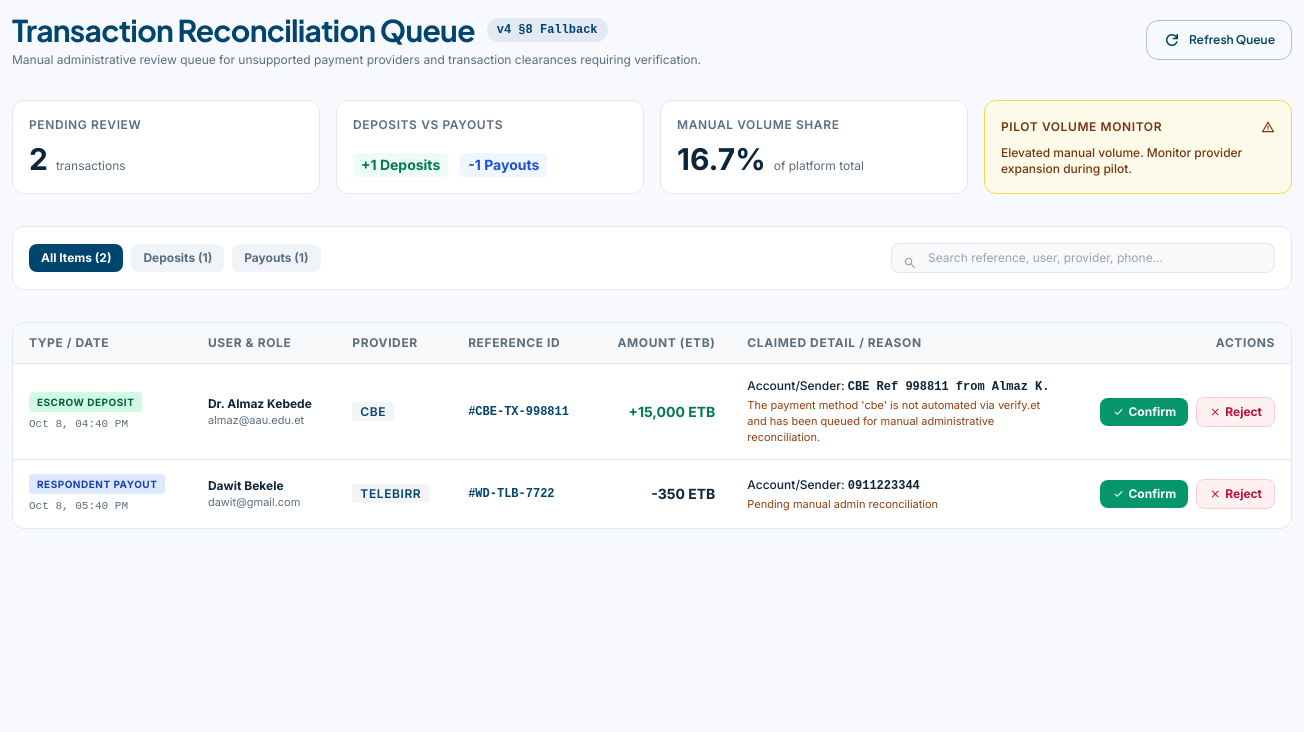
Test: Manual Admin Reconciliation Queue (Spec v4 §8 Known Gaps, §4.6.1, REH-113 & REH-114) › filters items by type (Deposits vs Payouts)
Expected: the text "Dr. Almaz Kebede" is shown, [208,396,320,412]
Expected: the text "Dawit Bekele" is shown, [208,478,284,493]
// Click Deposits filter tab
Click the button "Deposits (1)".
click(178, 258)  # box [131,244,224,272]
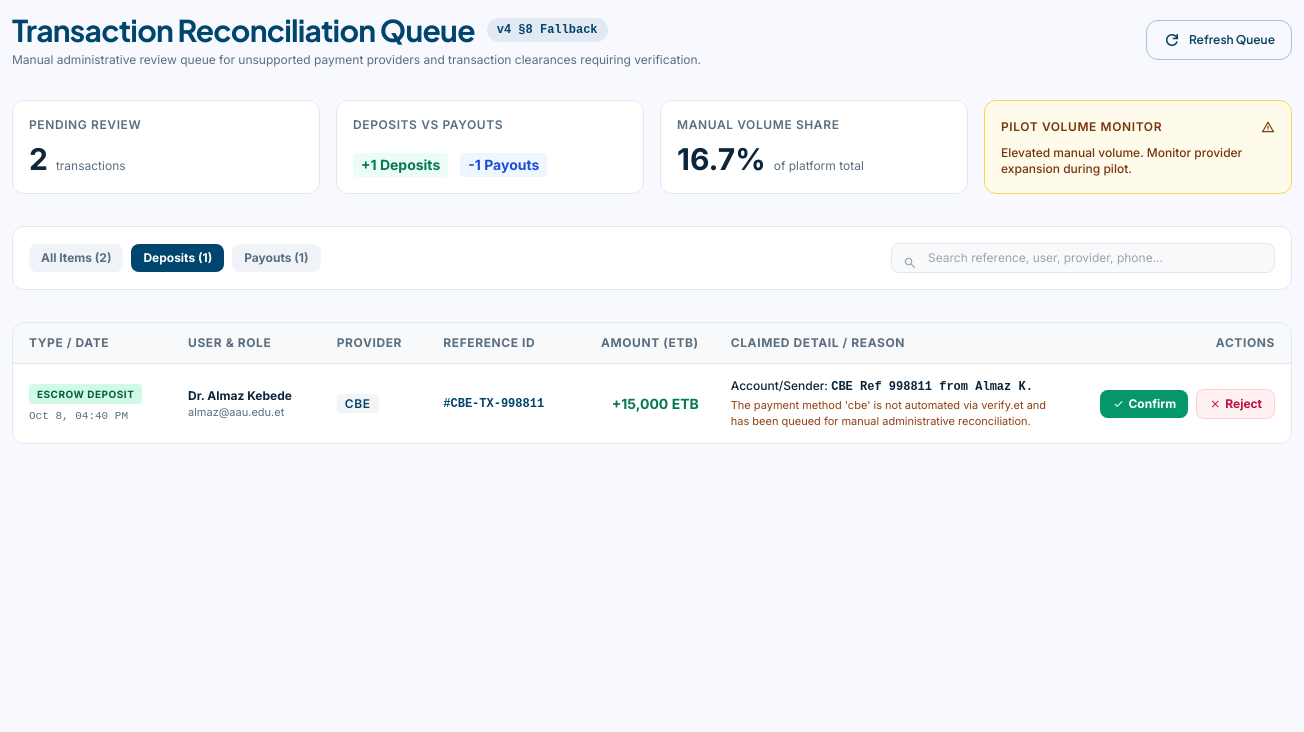
Expected: the text "Dr. Almaz Kebede" is shown, [188,388,305,404]
Now the text "Dawit Bekele" is gone
// Click Payouts filter tab
Click the button "Payouts (1)".
click(276, 258)  # box [232,244,320,272]
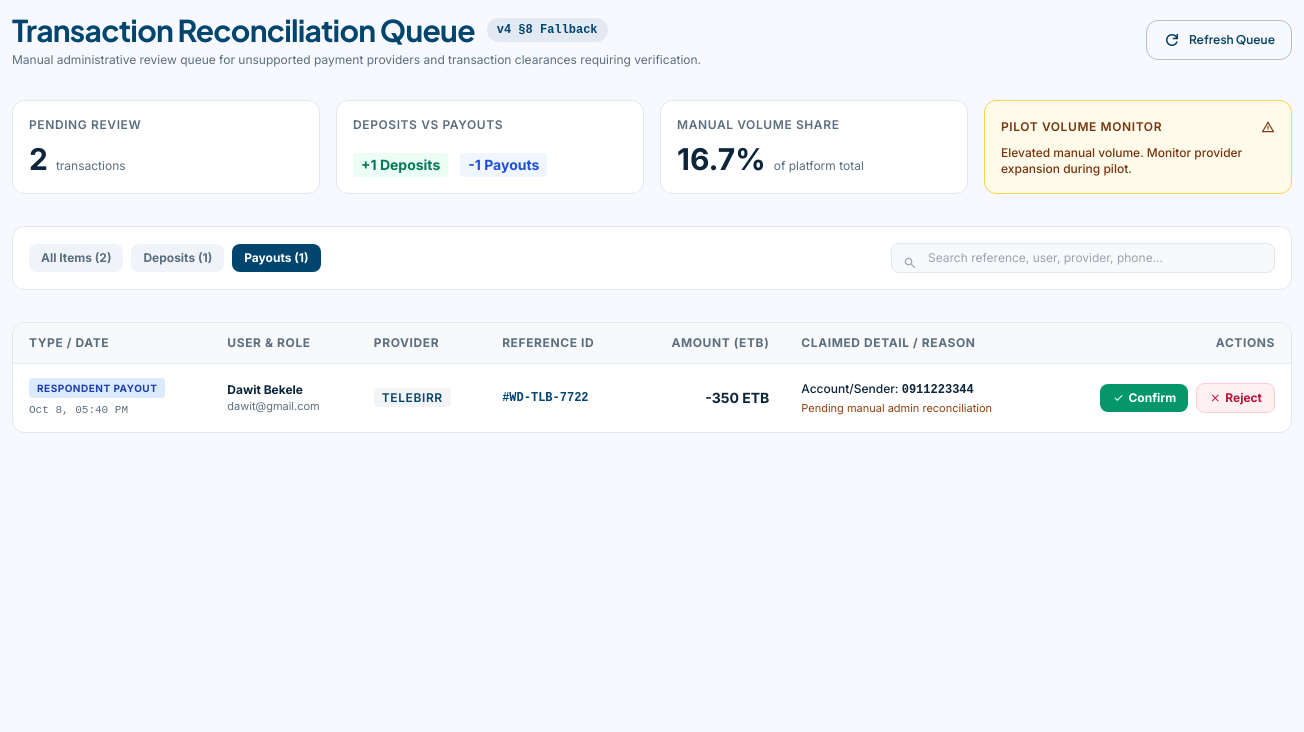
Now the text "Dr. Almaz Kebede" is gone
Now the text "Dawit Bekele" is shown, box [227,382,303,397]
